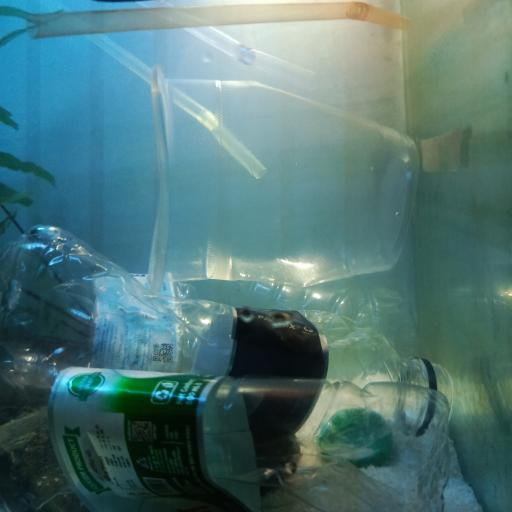plastic_bottle: (1, 222, 455, 442), (1, 357, 447, 512), (10, 276, 418, 366)
plastic_cup: (144, 68, 416, 289)
plastic_straw: (40, 0, 268, 179), (136, 0, 312, 83), (30, 1, 412, 39)
